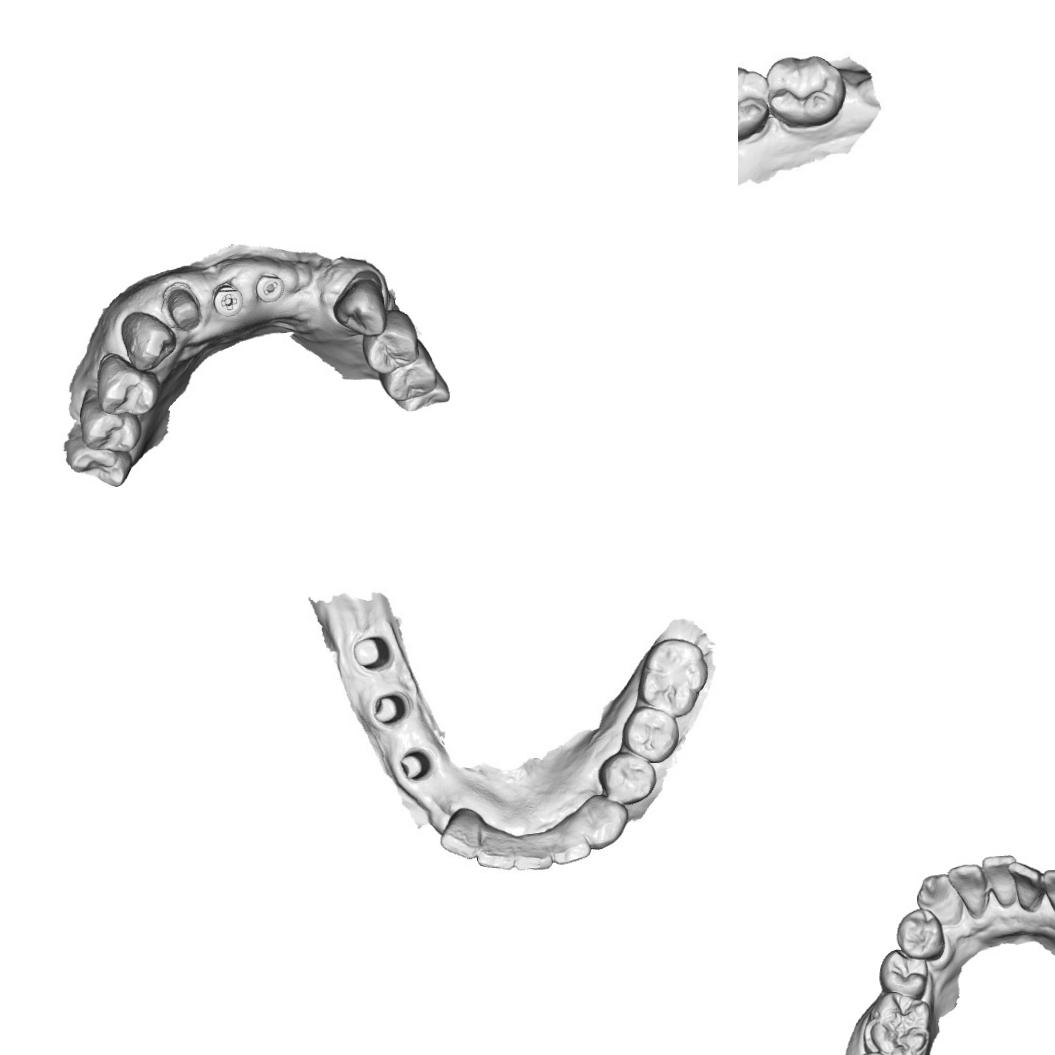abutment: (348, 632, 393, 674), (393, 742, 434, 783), (366, 690, 406, 728)
canine: (119, 309, 178, 373), (331, 276, 389, 339), (894, 906, 946, 962), (914, 871, 964, 928), (586, 803, 627, 851)
crown: (163, 281, 206, 338)
implant_minus: (253, 270, 286, 304)
implant_plus: (210, 279, 246, 318)
incisor: (946, 861, 989, 919), (437, 805, 479, 862), (1006, 858, 1045, 914), (980, 853, 1018, 908), (472, 828, 516, 875), (551, 824, 594, 865), (512, 835, 554, 872), (1040, 866, 1055, 916)
molar: (634, 634, 708, 716), (768, 54, 842, 124), (860, 988, 934, 1055), (62, 438, 132, 489), (738, 66, 771, 139)
premolar: (94, 352, 161, 416), (78, 399, 144, 455), (378, 344, 438, 403), (620, 705, 678, 763), (362, 317, 419, 376), (597, 752, 655, 804), (876, 946, 931, 999)
